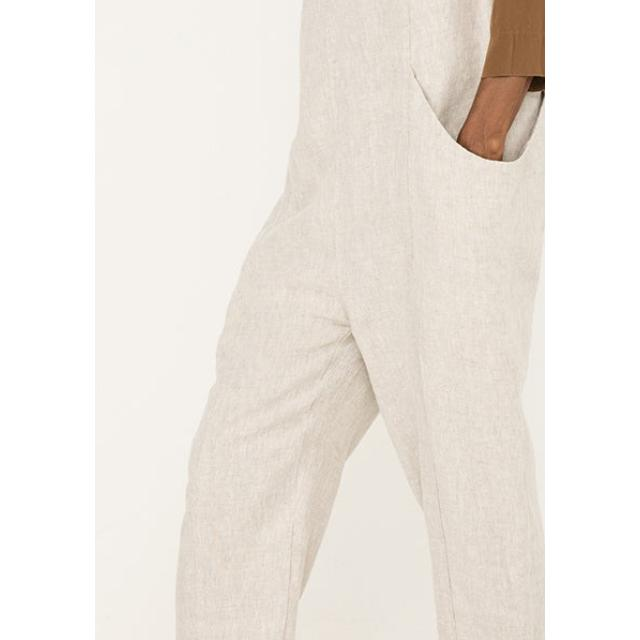linen: (313, 0, 487, 400)
